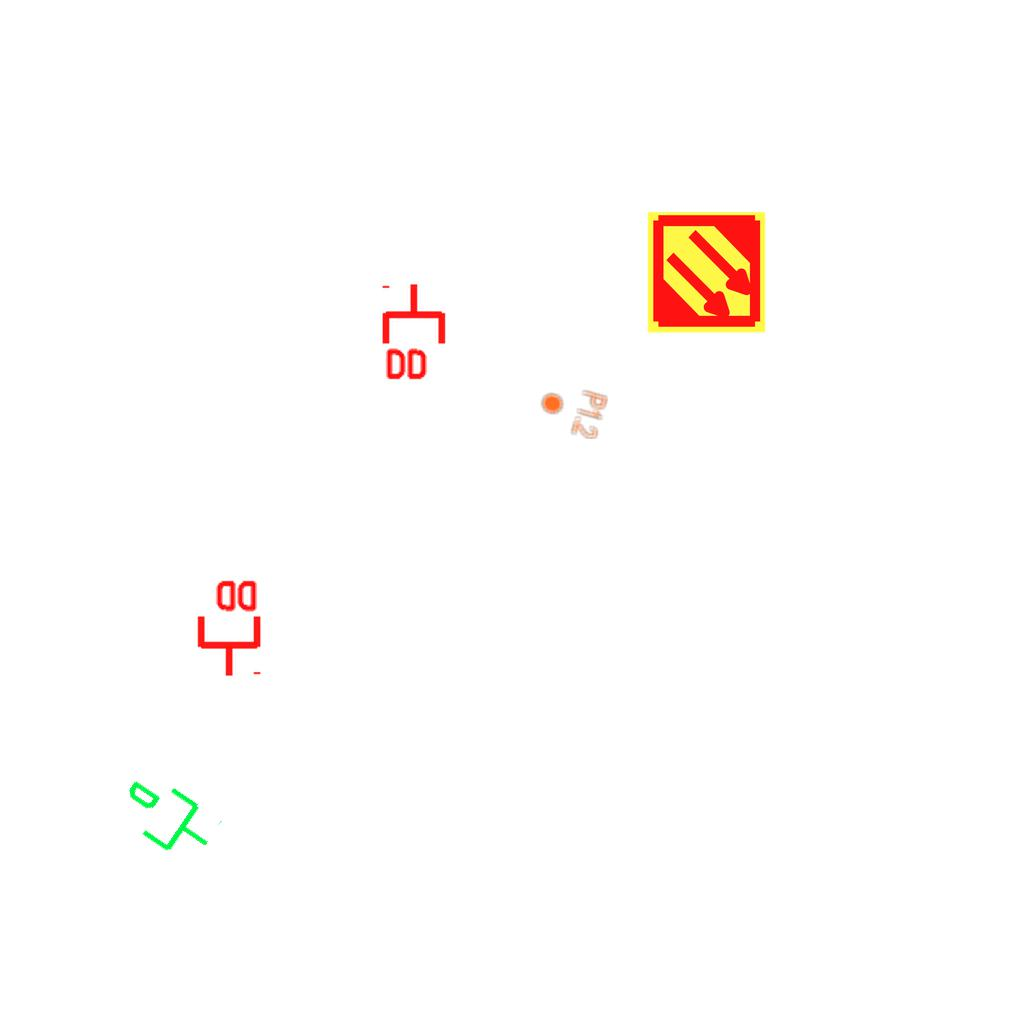ASR_Ansaugrauchmelder: (644, 210, 769, 335)
Datenanschluss_einfach: (105, 762, 228, 876)
Datenanschluss_zweifach: (381, 281, 450, 384), (193, 576, 262, 679)
Downlight_LED_Einbauleuchten_Flur: (534, 379, 610, 441)
